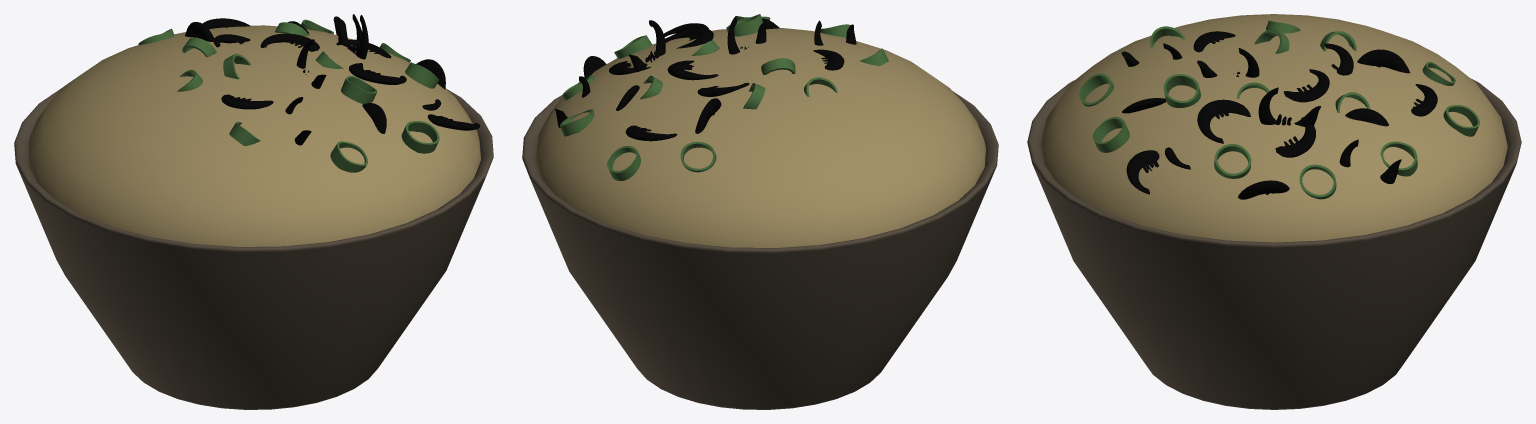
File: shrimp fried rice brunt.fbx
3 views of the same model, side by side, from view 1: azimuth 30°, elevation 25°; view 2: azimuth 150°, elevation 25°; view 3: azimuth 270°, elevation 25° (orthographic). The views are drawn at different scales.
Parts seen in each view (by area): view 1: Sphere.001, Cylinder.037, Cylinder.002, Cylinder.004, Cylinder.009, Torus.011, Torus.005, Torus.004, Cylinder.006, Torus.016, Torus.012, Torus.010; view 2: Sphere.001, Cylinder.037, Cylinder.003, Torus.011, Torus.005, Torus.004, Cylinder.005, Torus.003, Torus.013, Cylinder.004, Cylinder.006; view 3: Sphere.001, Cylinder.037, Torus.005, Cylinder.002, Torus.011, Torus.012, Torus.006, Cylinder.004, Torus.004, Torus.008, Cylinder.003, Torus.014 (+10 smaller).
Part boxes in pixels (x1,y1,x2,y2): Sphere.001: [27, 25, 480, 246]; Cylinder.037: [14, 87, 493, 409]; Cylinder.002: [401, 121, 439, 153]; Cylinder.004: [341, 76, 377, 104]; Cylinder.009: [330, 141, 367, 172]; Torus.011: [337, 15, 368, 59]; Torus.005: [349, 63, 406, 84]; Torus.004: [260, 33, 319, 51]; Cylinder.006: [405, 62, 439, 88]; Torus.016: [221, 94, 273, 109]; Torus.012: [427, 114, 480, 130]; Torus.010: [362, 103, 386, 133]; Sphere.001: [535, 28, 985, 247]; Cylinder.037: [522, 91, 998, 409]; Cylinder.003: [607, 145, 640, 180]; Torus.011: [629, 20, 665, 72]; Torus.005: [665, 28, 713, 48]; Torus.004: [667, 60, 718, 80]; Cylinder.005: [560, 109, 594, 136]; Torus.003: [727, 16, 766, 54]; Torus.013: [625, 125, 677, 141]; Cylinder.004: [726, 14, 762, 36]; Cylinder.006: [614, 35, 652, 58]; Sphere.001: [1040, 14, 1507, 242]; Cylinder.037: [1027, 78, 1521, 409]; Torus.005: [1197, 99, 1250, 143]; Cylinder.002: [1092, 117, 1129, 152]; Torus.011: [1258, 87, 1320, 126]; Torus.012: [1126, 150, 1159, 194]; Torus.006: [1357, 49, 1410, 73]; Cylinder.004: [1163, 74, 1200, 107]; Torus.004: [1283, 69, 1329, 102]; Torus.008: [1275, 117, 1315, 157]; Cylinder.003: [1443, 105, 1479, 136]; Torus.014: [1238, 180, 1289, 199].
Size of the model in its own units: 307 by 226 by 307.
